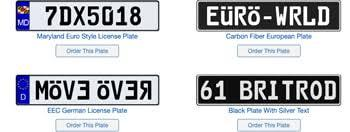0: (100, 5, 115, 27)
1: (213, 80, 228, 101), (114, 6, 129, 26)
5: (86, 5, 101, 26)
6: (200, 80, 213, 101)
7: (44, 5, 57, 27)
8: (128, 6, 143, 26)
B: (239, 80, 253, 101)
D: (317, 5, 331, 26), (58, 6, 72, 26), (323, 80, 337, 100)
E: (76, 80, 91, 100), (124, 80, 139, 100), (206, 5, 220, 26)
I: (267, 80, 280, 101)
L: (303, 6, 316, 26)
M: (35, 79, 49, 101)
O: (309, 80, 324, 100)
R: (137, 80, 153, 100), (295, 80, 309, 100), (254, 80, 267, 101), (234, 6, 247, 26), (289, 6, 302, 26)
T: (281, 79, 294, 101)
V: (110, 79, 125, 100), (62, 80, 76, 100)
W: (275, 6, 288, 26)
X: (72, 6, 86, 26)
oe: (95, 80, 111, 100), (247, 6, 261, 26), (49, 80, 62, 100)
ue: (221, 5, 233, 26)
